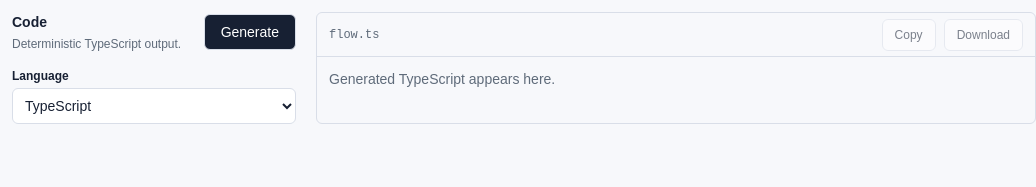
CodePanel › displays API errors
Click the button "Generate".
click(250, 32)  # box [204, 14, 296, 50]
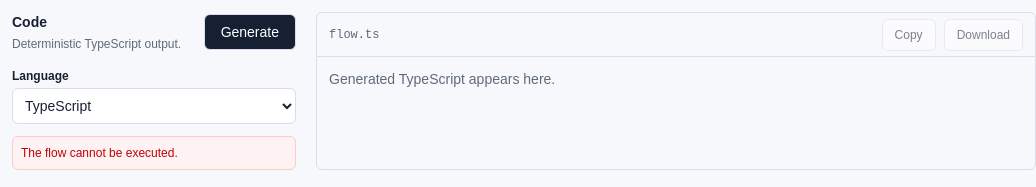
Check: the message reads "The flow cannot be executed.", box [21, 146, 178, 160]
